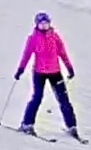skier: (0, 12, 89, 144)
